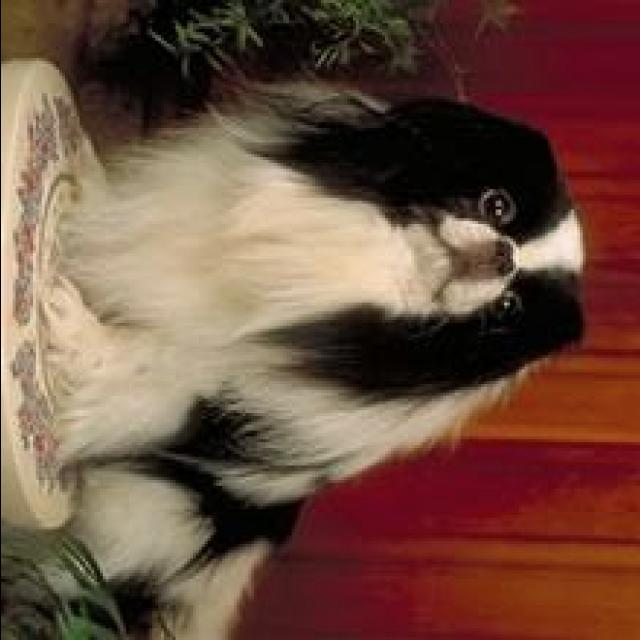husky: (2, 70, 596, 638)
